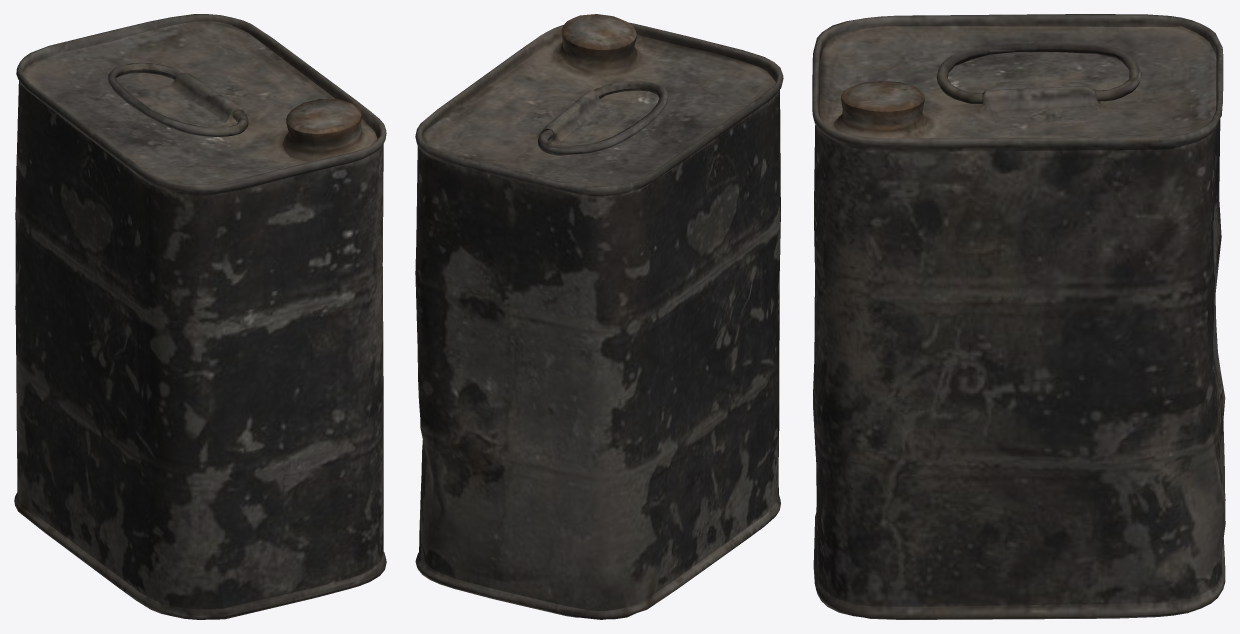
File: oil_tin.gltf
3 renders of one model, left to right at view 1: azimuth 30°, elevation 25°; view 2: azimuth 150°, elevation 25°; view 3: azimuth 270°, elevation 25°, orthographic. The views are drawn at different scales.
Parts seen in each view (by area): view 1: oil_tin, oil_tin_handle; view 2: oil_tin, oil_tin_handle; view 3: oil_tin, oil_tin_handle.
Boxes of the visible parts, x1,y1,x2,y2 form: oil_tin: (14,14,386,619); oil_tin_handle: (108,63,248,137); oil_tin: (415,14,783,619); oil_tin_handle: (537,81,668,155); oil_tin: (812,14,1225,619); oil_tin_handle: (936,43,1141,103).
Size of the model in its own units: 0.1147 by 0.2054 by 0.1535.
Materials: 1 (1 with a texture image).
